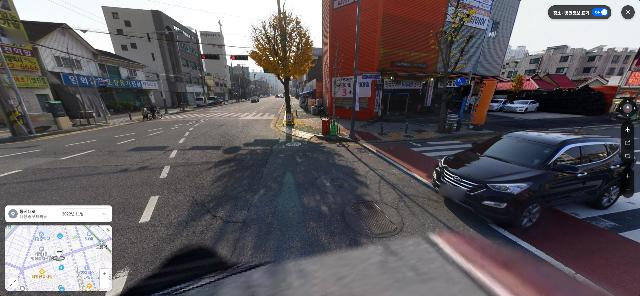ginkgo: (250, 5, 316, 124), (430, 0, 484, 135)
other: (321, 38, 356, 137), (61, 45, 97, 127), (226, 68, 241, 103)
